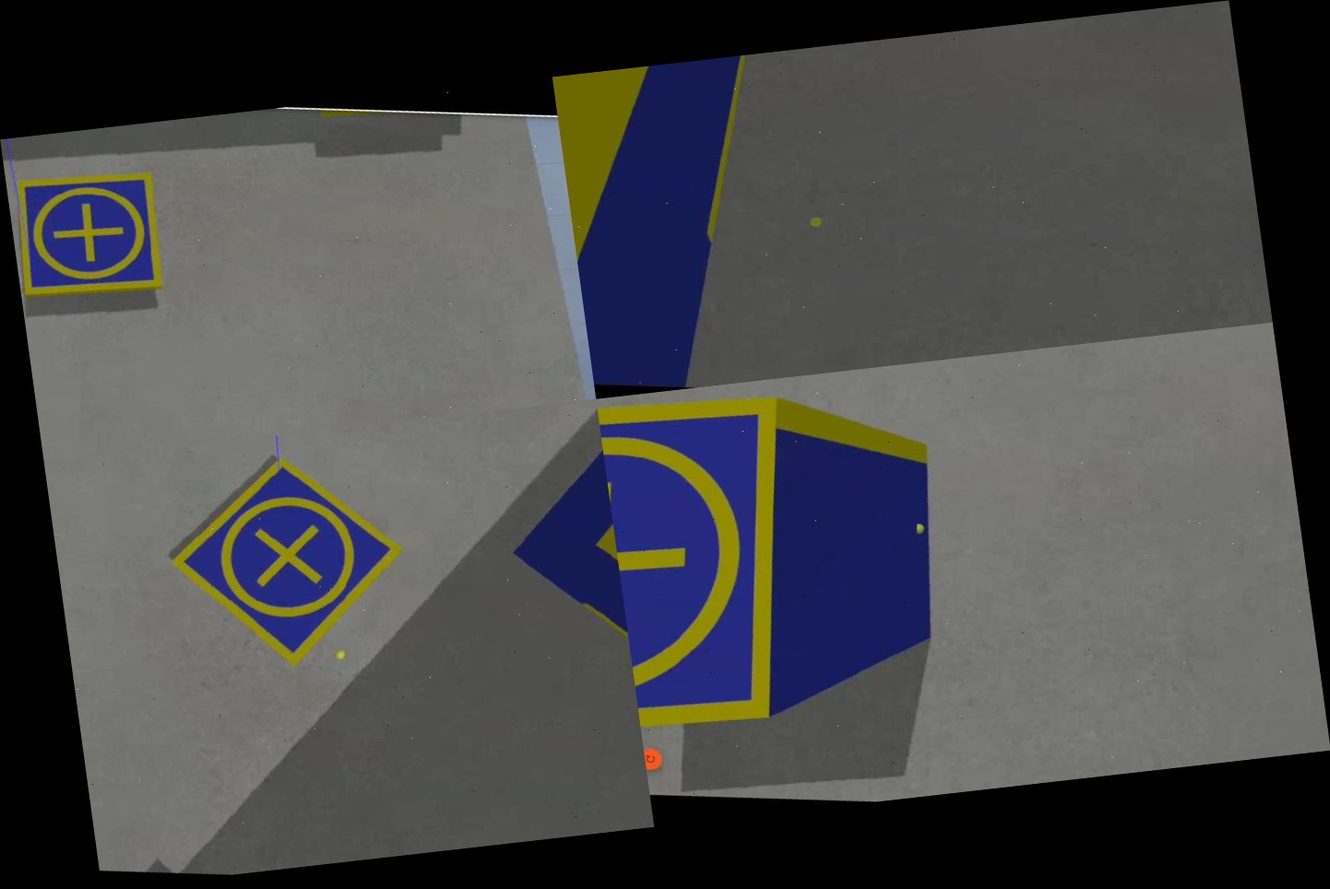large_base: (552, 52, 818, 399), (461, 399, 651, 820)
small_base: (596, 378, 830, 760), (134, 425, 435, 699), (5, 153, 184, 315)
